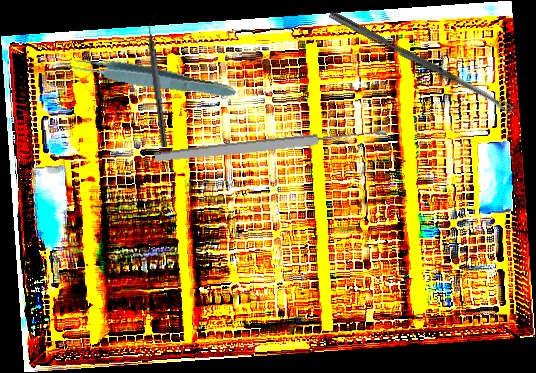Chopper: (142, 13, 177, 148)
Surgical Spoon: (327, 10, 515, 115), (153, 125, 388, 165)
Tissue Forceps: (64, 51, 238, 103)
